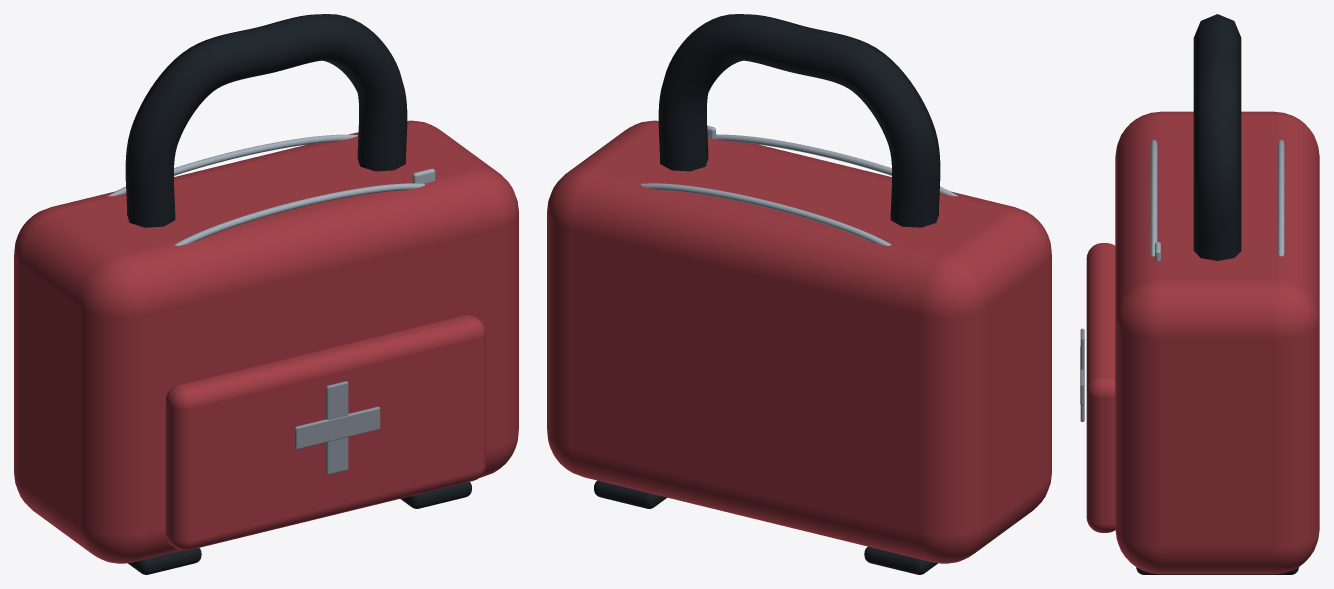
The model's file is atelier_medical_bag.glb.
3 views of the same model, side by side, from view 1: azimuth 30°, elevation 25°; view 2: azimuth 150°, elevation 25°; view 3: azimuth 270°, elevation 25° (orthographic). The views are drawn at different scales.
Visible parts, largest first — view 1: medicalBag:MedicalBagV5_Cordura, medicalBag:Atelier_SoftRubber, medicalBag:Atelier_BrushedSteel, medicalBag:Atelier_TonalStitch; view 2: medicalBag:MedicalBagV5_Cordura, medicalBag:Atelier_SoftRubber, medicalBag:Atelier_BrushedSteel; view 3: medicalBag:MedicalBagV5_Cordura, medicalBag:Atelier_SoftRubber, medicalBag:Atelier_BrushedSteel, medicalBag:Atelier_TonalStitch.
Part boxes in pixels (<box>): medicalBag:MedicalBagV5_Cordura: <box>14,120,518,563</box>; medicalBag:Atelier_SoftRubber: <box>125,14,471,574</box>; medicalBag:Atelier_BrushedSteel: <box>108,134,435,245</box>; medicalBag:Atelier_TonalStitch: <box>294,381,380,474</box>; medicalBag:MedicalBagV5_Cordura: <box>547,120,1051,563</box>; medicalBag:Atelier_SoftRubber: <box>594,14,940,574</box>; medicalBag:Atelier_BrushedSteel: <box>641,125,957,245</box>; medicalBag:MedicalBagV5_Cordura: <box>1086,111,1319,574</box>; medicalBag:Atelier_SoftRubber: <box>1136,14,1298,574</box>; medicalBag:Atelier_BrushedSteel: <box>1150,140,1284,261</box>; medicalBag:Atelier_TonalStitch: <box>1080,328,1084,421</box>.
Size of the model in its own units: 0.24 by 0.255 by 0.1207.
